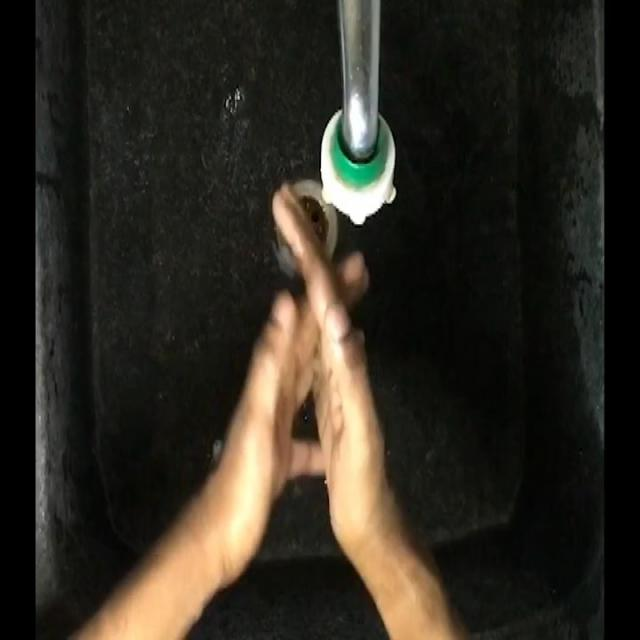step_3: (208, 178, 391, 535)
